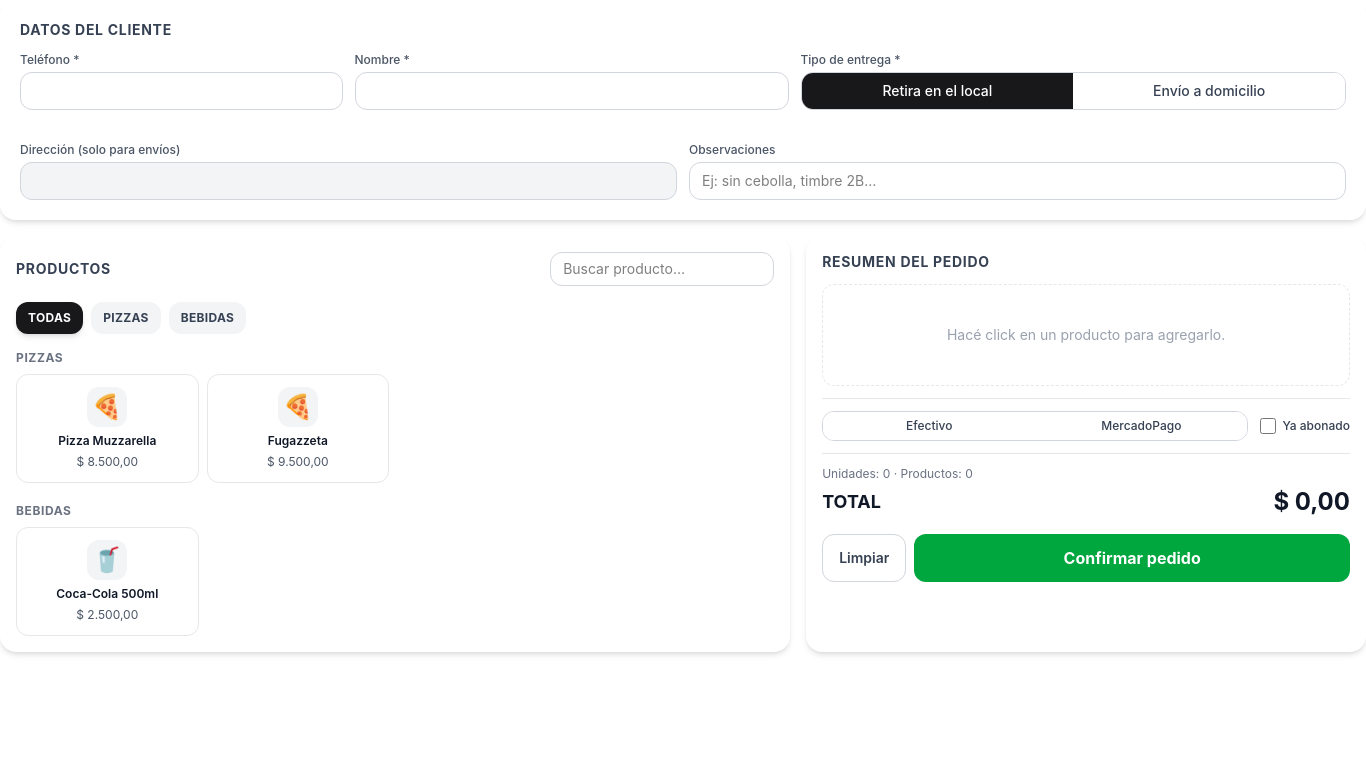
Test: TomarPedidoView › valida cliente y productos antes de registrar
Expected: the button "🍕 Pizza Muzzarella $ 8.500,00" is shown, top-left (16, 374), bottom-right (198, 483)
Step 1. Click the radio button labelled "Envío a domicilio" → coordinates (1209, 91), box top-left (1073, 73), bottom-right (1345, 109)
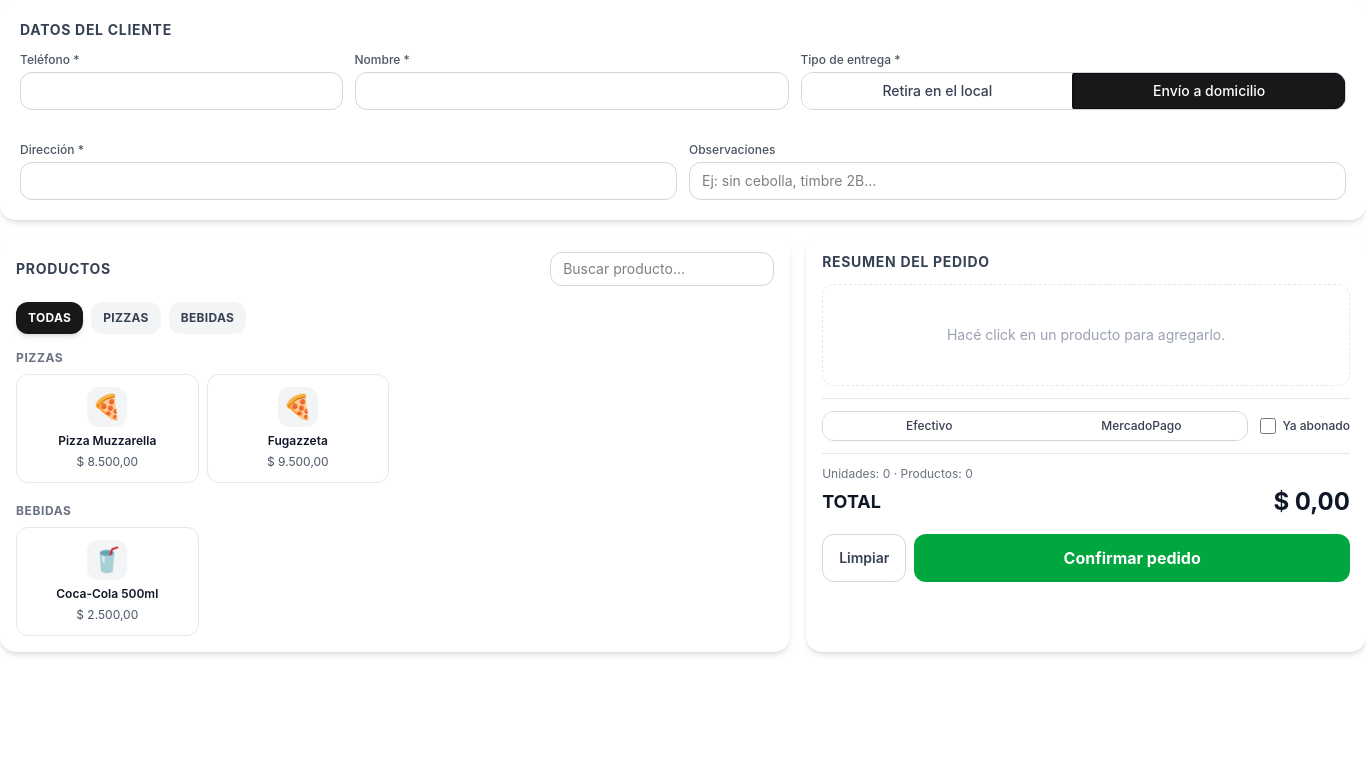
Step 2. Click the button "Confirmar pedido" → coordinates (1132, 558), box top-left (914, 534), bottom-right (1350, 582)
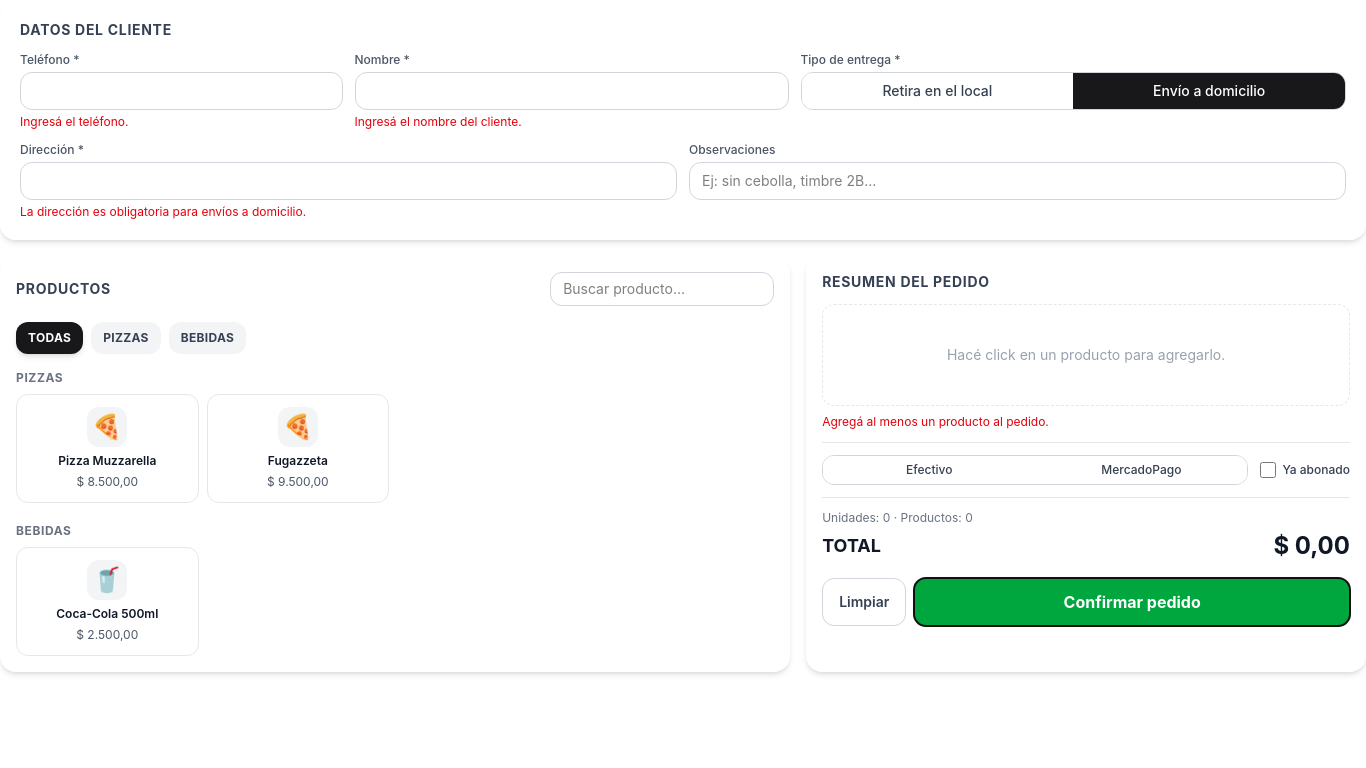
Now the text "Ingresá el nombre del cliente." is shown, box top-left (354, 114), bottom-right (522, 129)
Now the text "Ingresá el teléfono." is shown, box top-left (20, 114), bottom-right (128, 129)
Now the text "La dirección es obligatoria para envíos a domicilio." is shown, box top-left (20, 204), bottom-right (306, 219)
